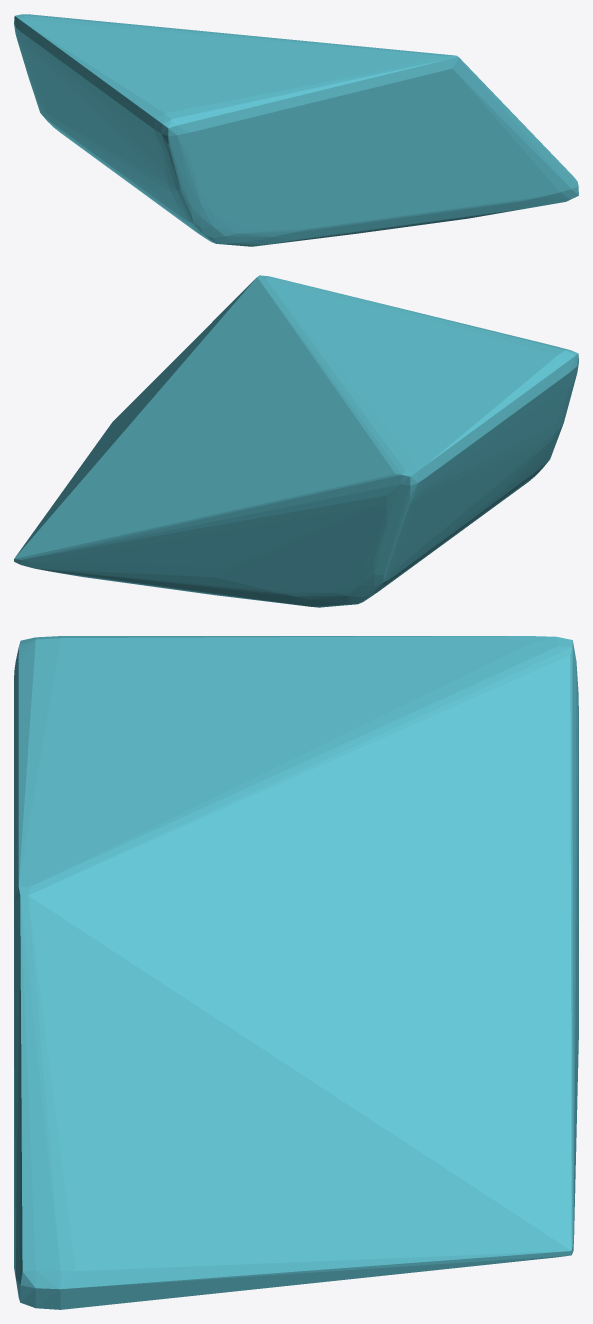
The picture shows the model from 3 angles, top to bottom: view 1: azimuth 30°, elevation 25°; view 2: azimuth 150°, elevation 25°; view 3: azimuth 270°, elevation 25°; orthographic projection. The views are drawn at different scales.
Bounding box in the file's own units: 0.0717 × 0.0296 × 0.0466.
